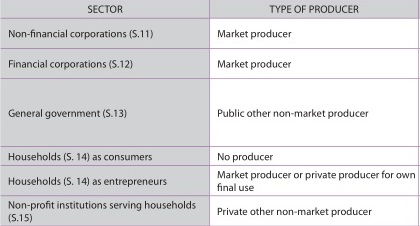column: (218, 1, 416, 226), (8, 3, 198, 226)
row: (1, 200, 420, 224), (1, 170, 420, 192), (1, 4, 419, 15), (1, 59, 419, 70), (1, 29, 420, 39), (3, 109, 419, 119), (1, 152, 419, 161)
